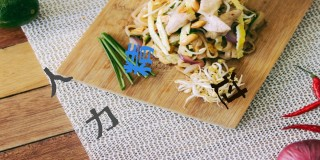人: (42, 66, 74, 98)
力: (87, 107, 118, 138)
精: (124, 43, 154, 78)
过: (210, 69, 249, 109)
